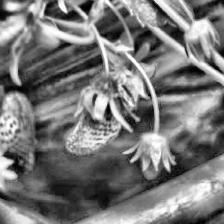Gray Mold: (66, 72, 139, 154)
